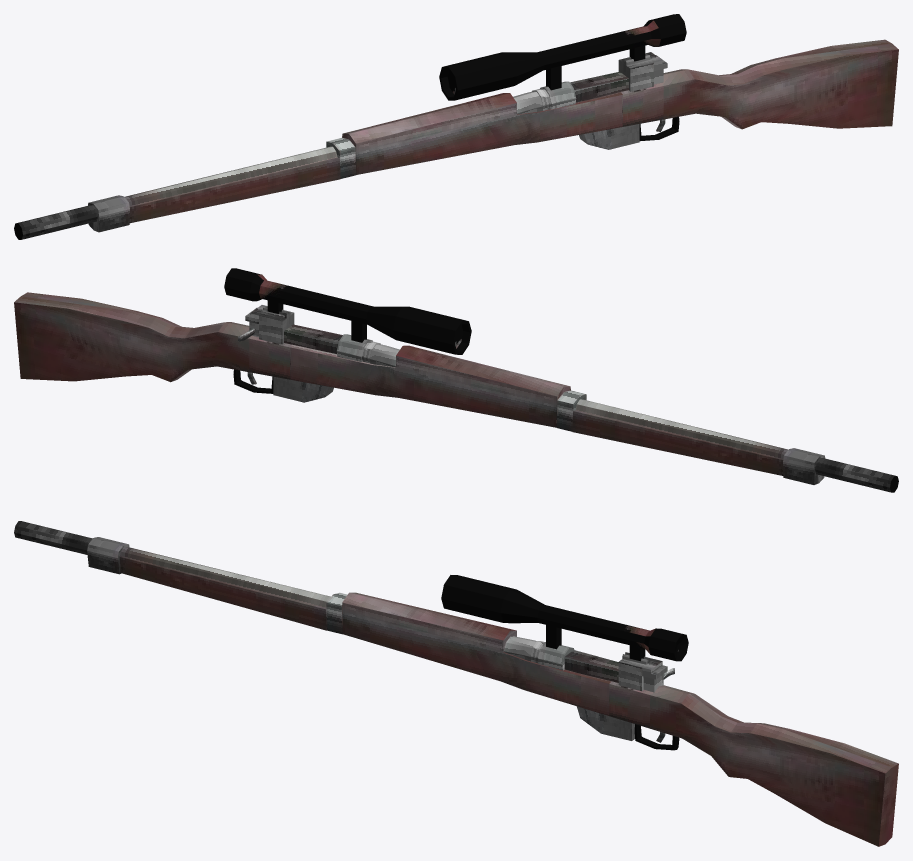
The model's file is shop-item-1079.glb.
The picture shows the model from 3 angles, top to bottom: view 1: azimuth 30°, elevation 25°; view 2: azimuth 150°, elevation 25°; view 3: azimuth 330°, elevation 25°; orthographic projection.
Parts seen in each view (by area): view 1: body, Cylinder, barrel, tip, upsideConnector, rearsight, rearsightFront, tipConnector, clip, connector; view 2: body, Cylinder, tip, barrel, upsideConnector, rearsight, tipConnector, rearsightFront, clip, connector; view 3: body, Cylinder, tip, barrel, rearsight, upsideConnector, rearsightFront, tipConnector, clip, connector.
Part boxes in pixels (<box>): body: <box>342,39,898,174</box>; Cylinder: <box>439,14,686,100</box>; barrel: <box>14,146,337,239</box>; tip: <box>129,157,340,223</box>; upsideConnector: <box>513,81,576,114</box>; rearsight: <box>618,52,667,91</box>; rearsightFront: <box>570,71,628,102</box>; tipConnector: <box>88,195,129,232</box>; clip: <box>579,124,639,149</box>; connector: <box>326,137,356,178</box>; body: <box>14,292,570,427</box>; Cylinder: <box>224,268,471,354</box>; tip: <box>572,410,783,475</box>; barrel: <box>575,399,898,492</box>; upsideConnector: <box>336,334,399,367</box>; rearsight: <box>245,305,294,344</box>; tipConnector: <box>783,448,825,484</box>; rearsightFront: <box>284,324,342,353</box>; clip: <box>273,376,333,402</box>; connector: <box>556,390,586,431</box>; body: <box>342,592,898,846</box>; Cylinder: <box>441,575,688,661</box>; tip: <box>119,557,326,630</box>; barrel: <box>14,521,330,607</box>; rearsight: <box>618,652,667,692</box>; upsideConnector: <box>503,636,574,670</box>; rearsightFront: <box>564,650,618,682</box>; tipConnector: <box>87,537,129,574</box>; clip: <box>577,706,634,740</box>; connector: <box>326,592,347,634</box>.
Bounding box in the file's own units: 1.22 × 0.2162 × 0.0622.
Materials: 1 (1 with a texture image).
